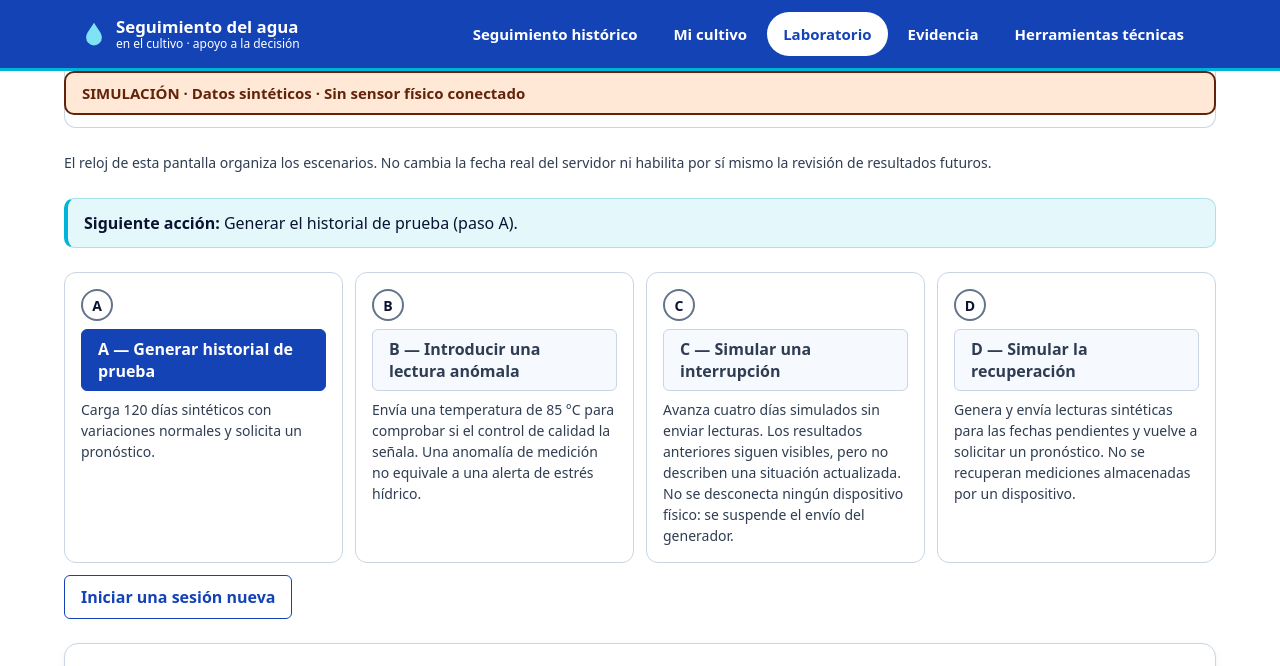
App — navegación por hash (Entrega 2) › carries the Laboratorio sensor to Herramientas without copying its id or reloading the page
(page scrolled)
Step 1. Click the button "A — Generar historial de prueba" → (204, 360), box [81, 329, 326, 391]
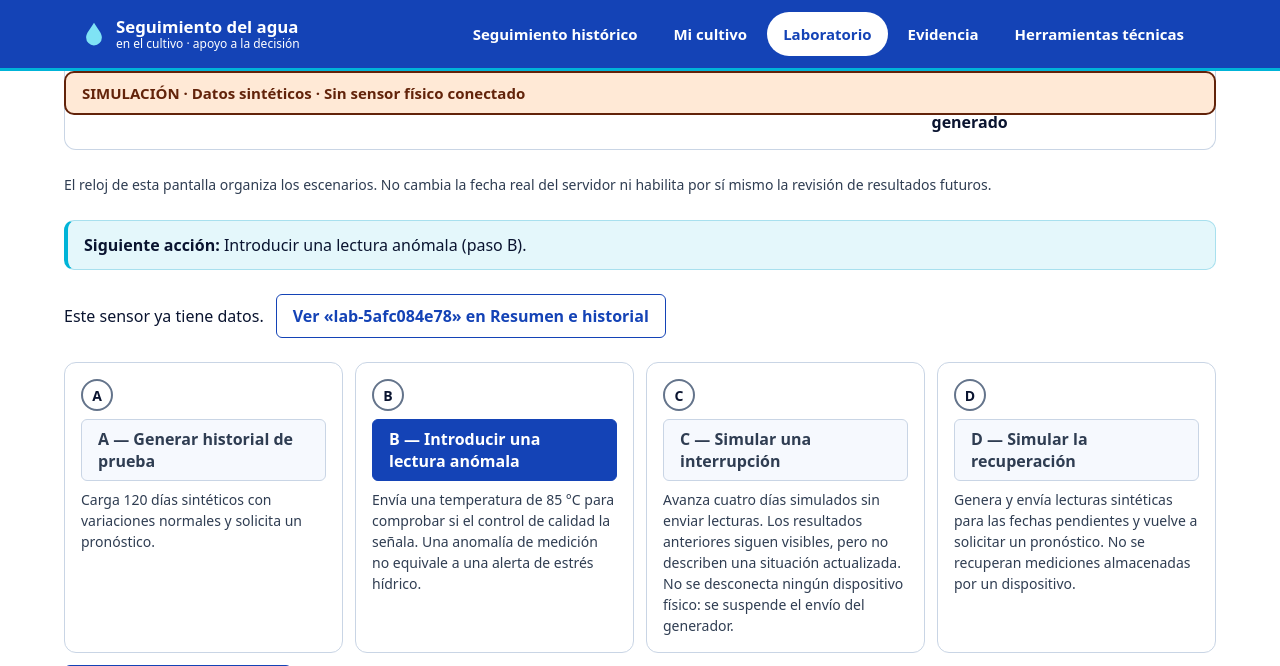
Step 2. Click the button that starts with "Ver «" → (471, 316), box [276, 294, 666, 338]
(page scrolled)
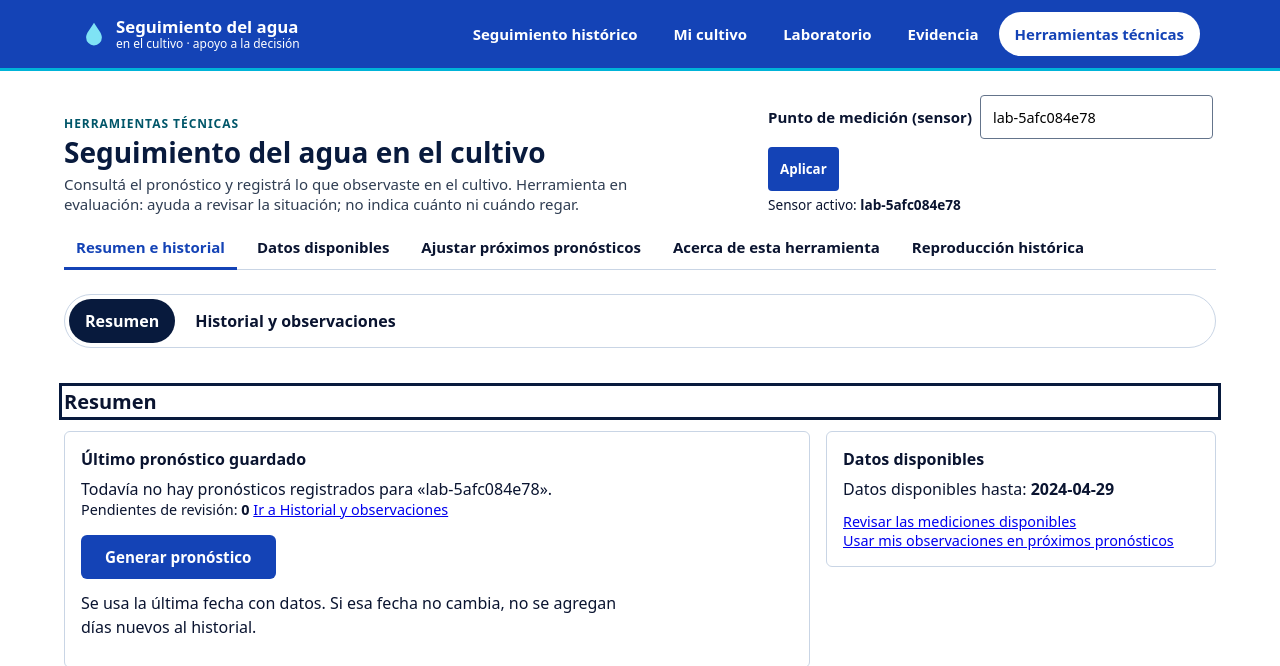
Expected: the heading "Resumen" is shown, [64, 388, 1216, 415]
Expected: the button "Generar pronóstico" is enabled, [81, 535, 276, 579]
